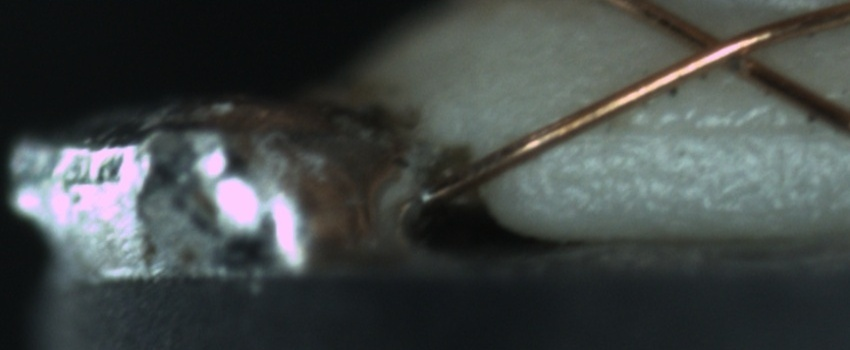CL: (670, 14, 777, 82)
DL: (566, 98, 843, 162)
